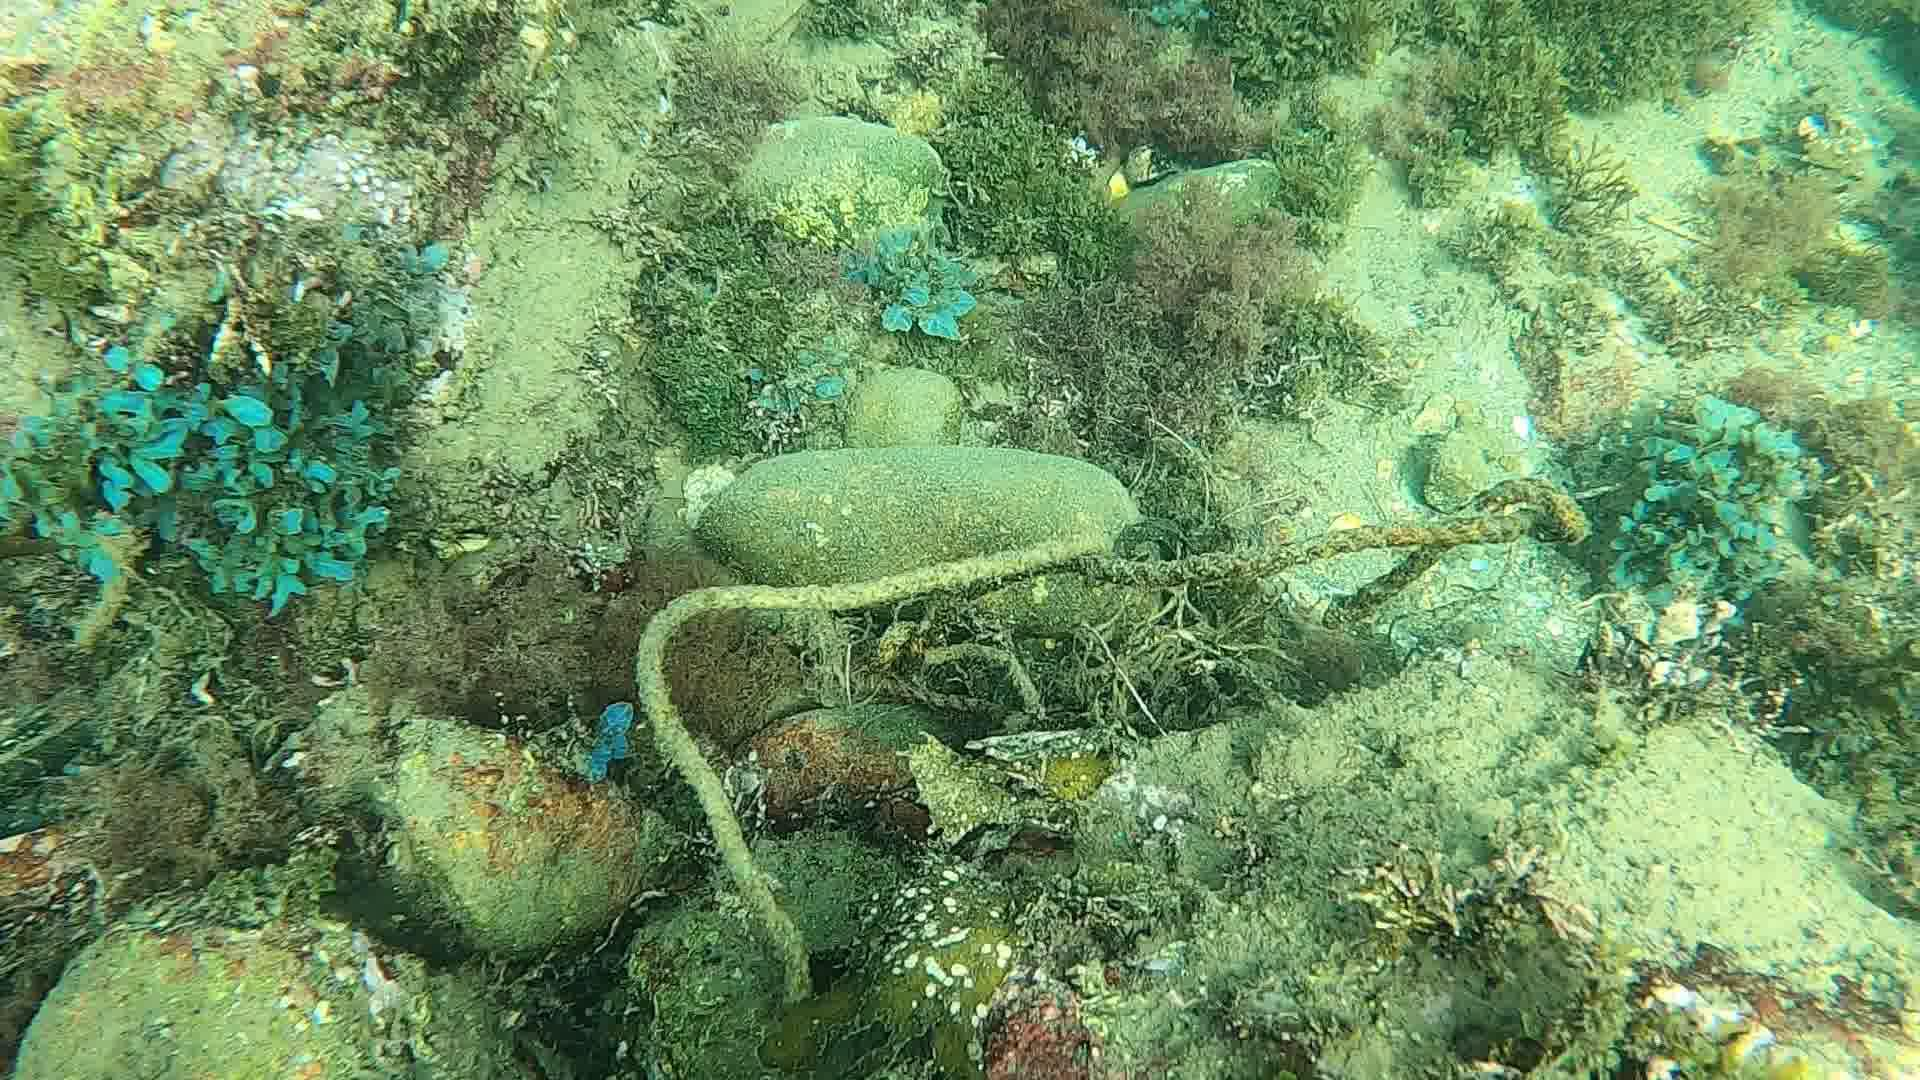bundle of ropes: (634, 473, 1585, 1004)
